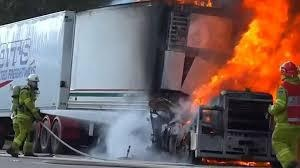fire: (190, 0, 298, 115)
